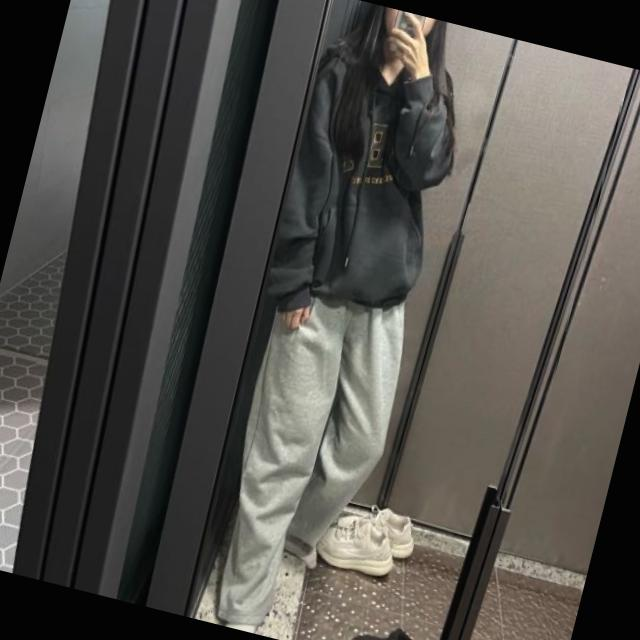hoodies: (256, 23, 477, 345)
trainingpants: (196, 266, 420, 640)
